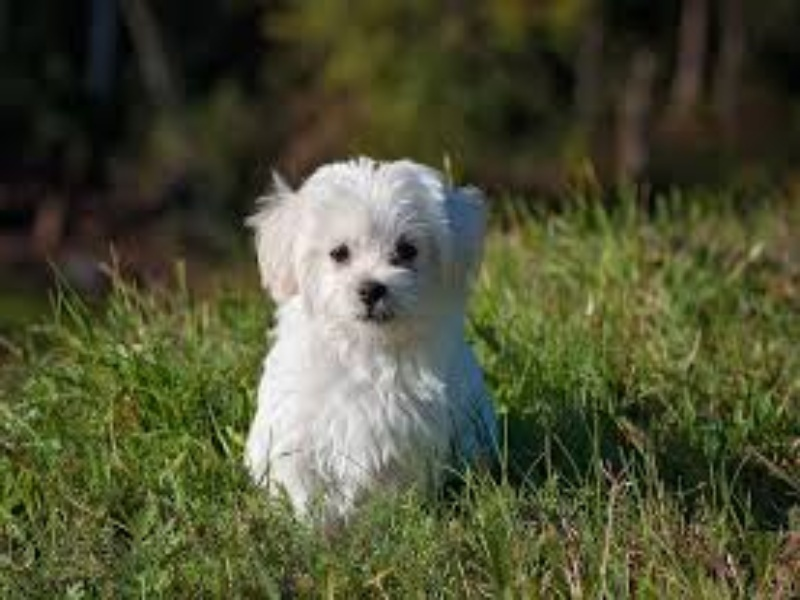dog: (244, 151, 517, 535)
